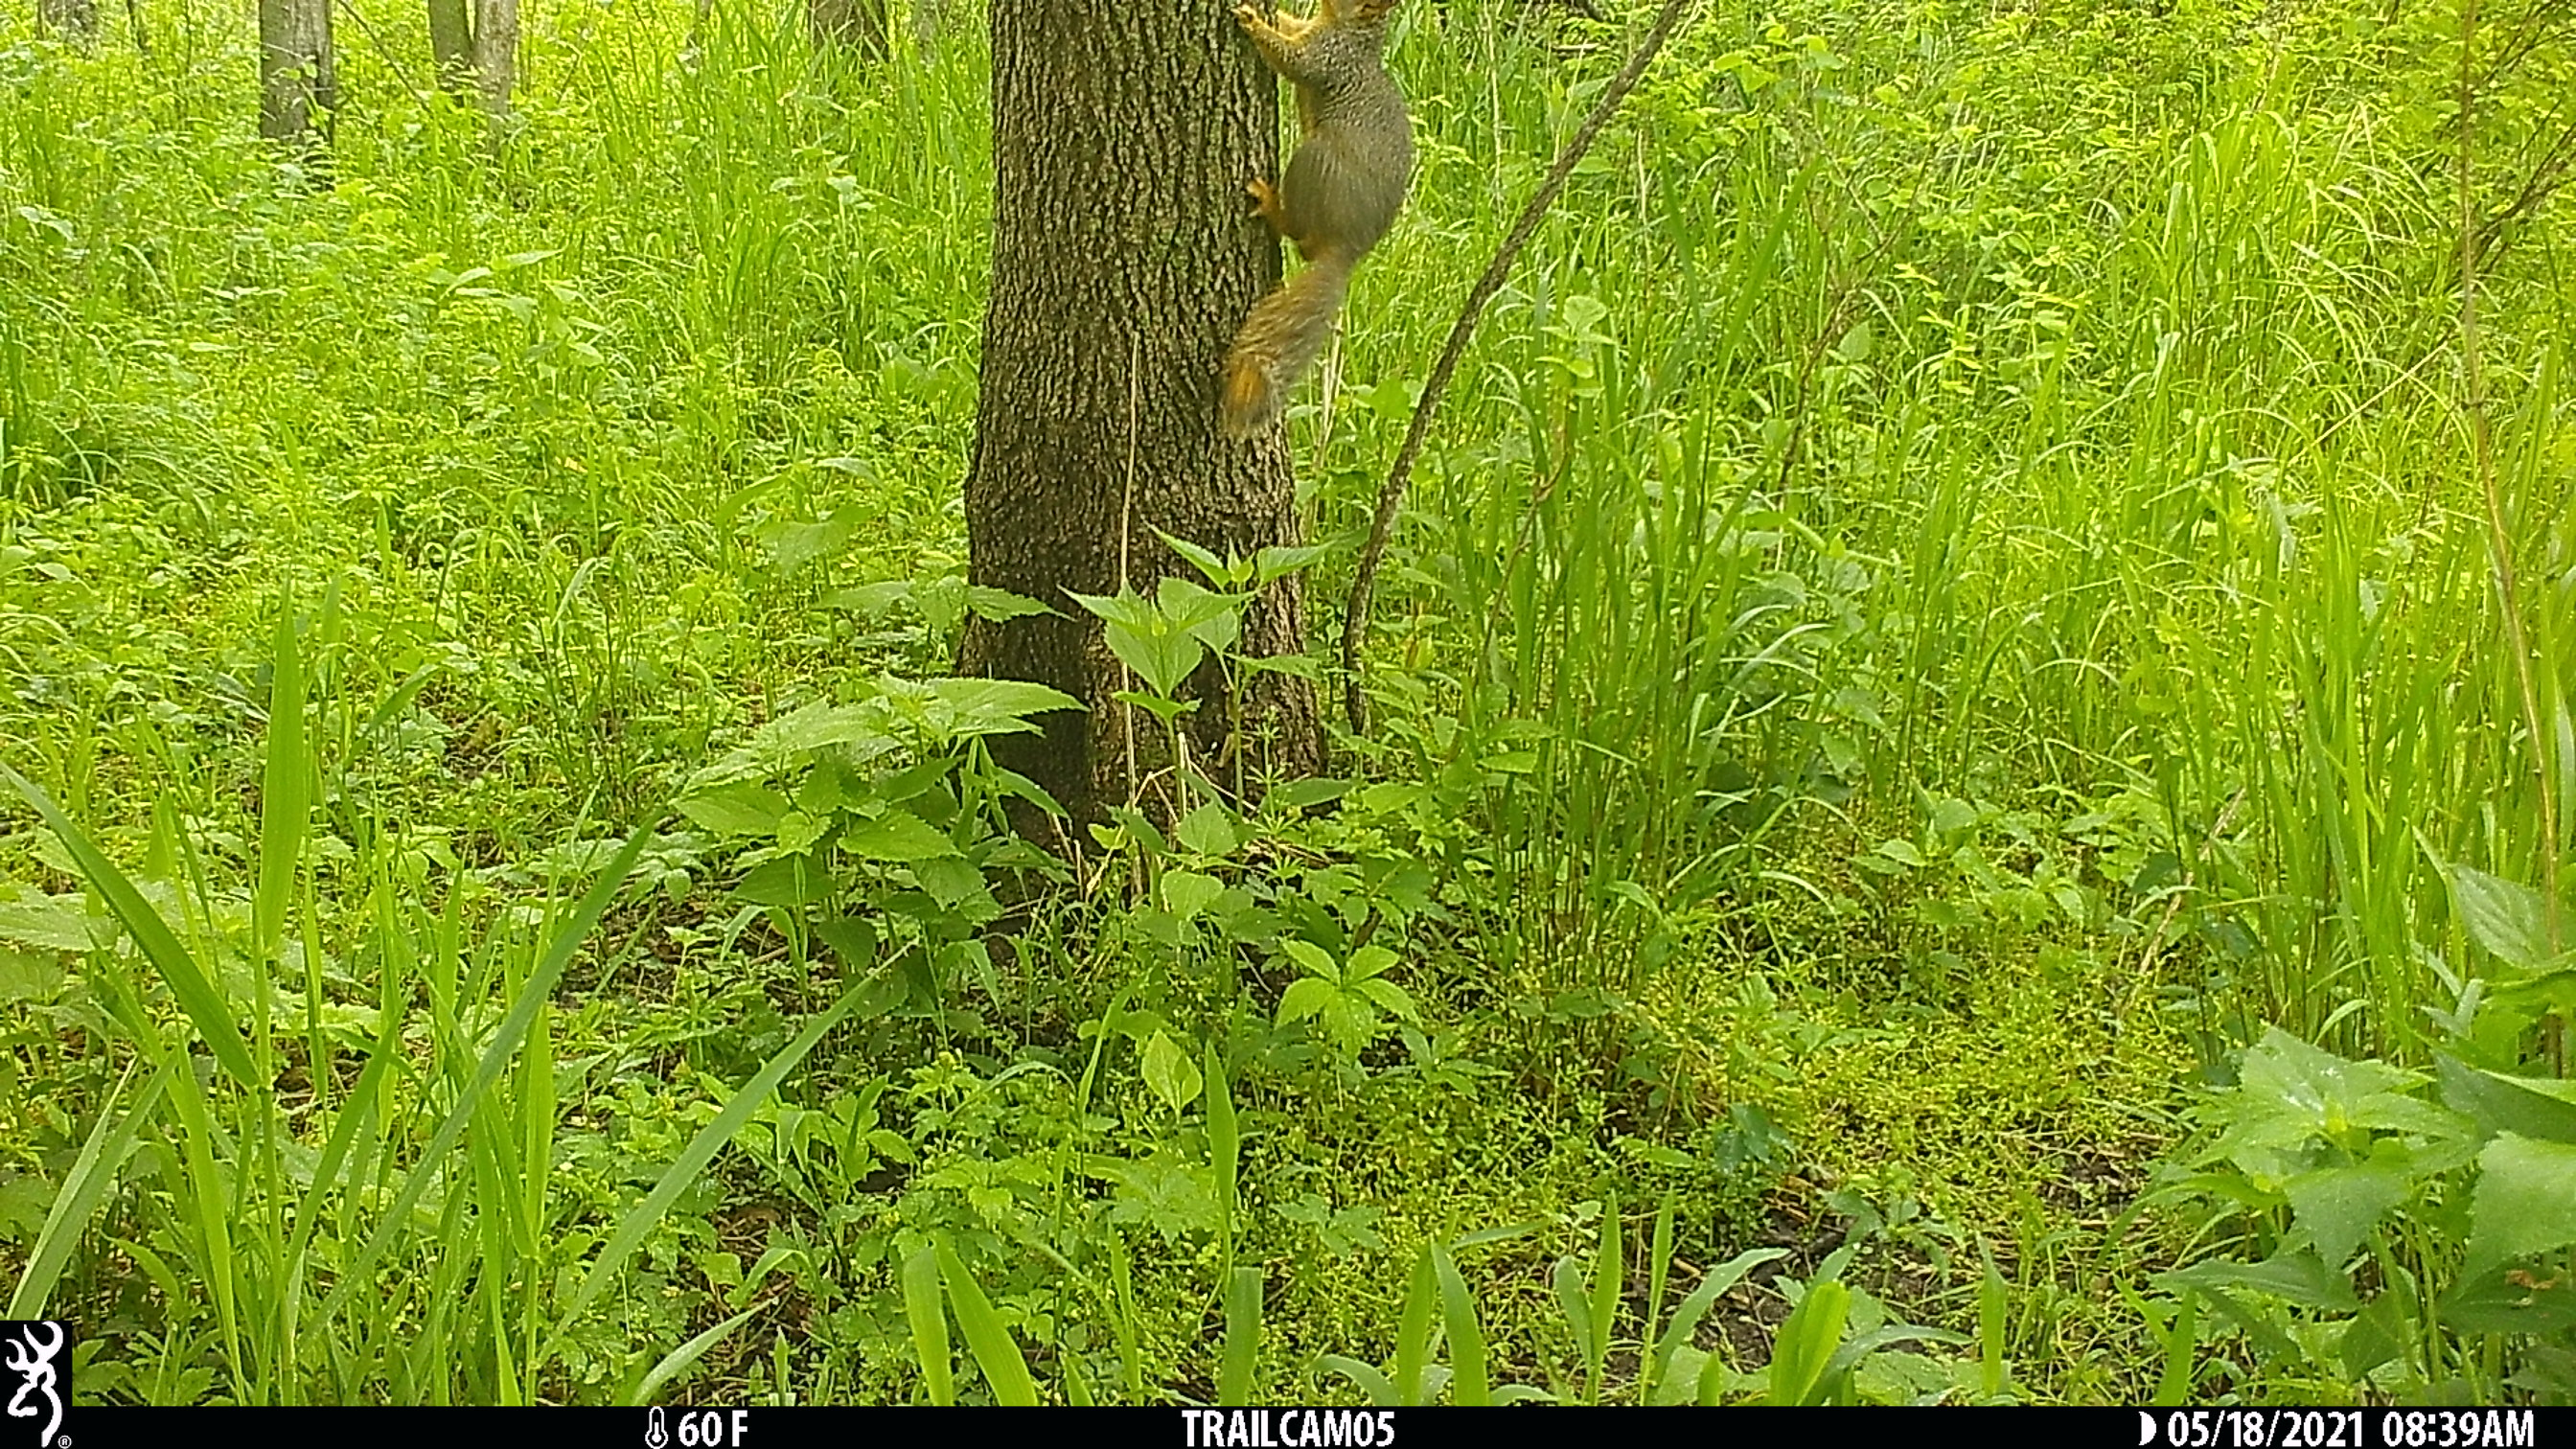Squirrel: (1210, 2, 1417, 451)
